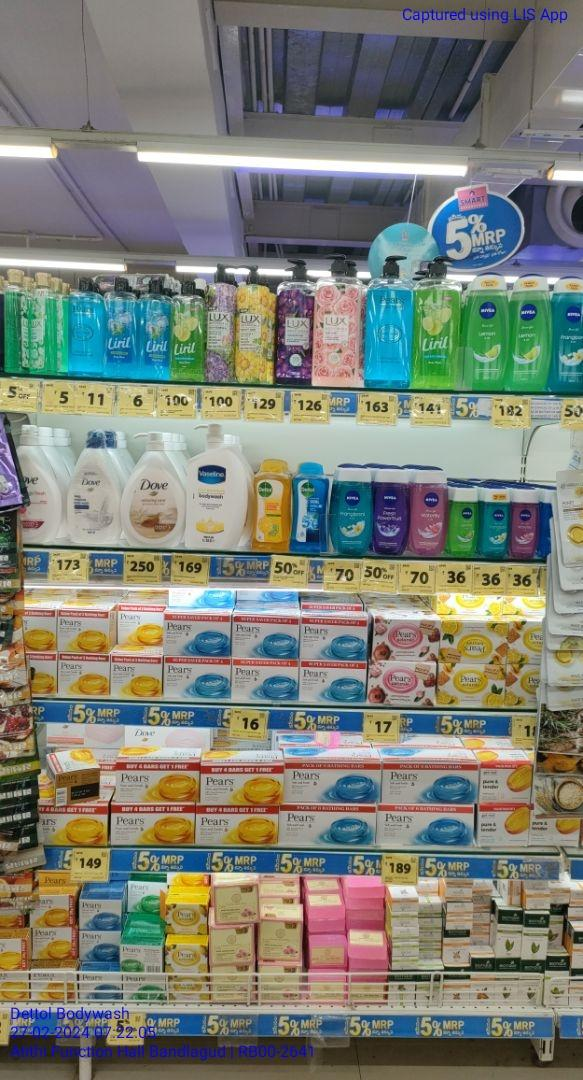Dettol_Bodywash_Cool: (293, 461, 329, 557)
Dettol_Bodywash_Refresh: (251, 458, 291, 555)
Liril_Cooling_Mint_Body_Wash_250ML: (138, 276, 171, 382), (105, 275, 137, 379)
Liril_Lime_and_Tea_Tree_Oil_Body_Wash_250ML: (172, 280, 205, 381)
Nivea_Shower_Gel_Frangipani_and_Oil_250ML: (552, 274, 583, 394), (333, 462, 370, 556)
Nivea_Shower_Gel_Fresh_Powerfruit_250ML: (373, 465, 407, 557)
Nivea_Shower_Gel_Lemon_and_Oil_250ML: (465, 273, 509, 393), (511, 274, 550, 393)
Nivea_Shower_Gel_Waterlily_and_Oil_250ML: (409, 461, 446, 555)
Pears_Pure_Glycerin_and_Mint_Extracts_Body_Wash_250ML: (68, 276, 104, 377)
